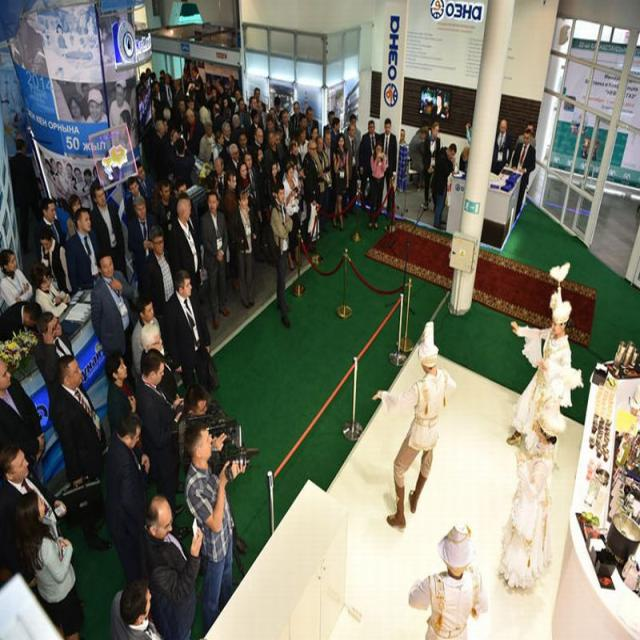body: (30, 8, 130, 214), (369, 317, 459, 536), (129, 61, 264, 189), (505, 261, 584, 448), (182, 420, 247, 637), (48, 352, 114, 554), (0, 438, 69, 630), (11, 485, 93, 639), (498, 409, 567, 592), (135, 346, 192, 543), (137, 491, 205, 639), (406, 519, 489, 640), (102, 412, 154, 586), (159, 266, 222, 396), (34, 310, 98, 436), (90, 248, 140, 394), (168, 196, 211, 348), (264, 81, 360, 142), (0, 357, 47, 479), (0, 358, 46, 470), (87, 181, 131, 287), (199, 190, 232, 331), (6, 135, 44, 255), (177, 382, 228, 468), (266, 178, 294, 332), (226, 187, 260, 310), (102, 352, 144, 450), (62, 206, 108, 293), (140, 223, 178, 320), (110, 575, 164, 640), (129, 188, 196, 239), (130, 294, 166, 379), (34, 223, 74, 296), (126, 193, 161, 272), (299, 138, 325, 242), (373, 115, 398, 222), (281, 161, 304, 273), (510, 128, 536, 224), (430, 142, 458, 230), (0, 291, 43, 345), (264, 141, 312, 188), (34, 196, 66, 266), (33, 260, 70, 318), (0, 246, 34, 308), (357, 118, 380, 209), (330, 131, 350, 232), (366, 138, 387, 232), (422, 121, 442, 211), (408, 124, 433, 193), (413, 78, 449, 121), (343, 123, 360, 210), (491, 117, 514, 176), (508, 122, 536, 168), (314, 134, 334, 189), (458, 118, 475, 180), (222, 168, 240, 222), (397, 128, 410, 194), (322, 128, 337, 170)
